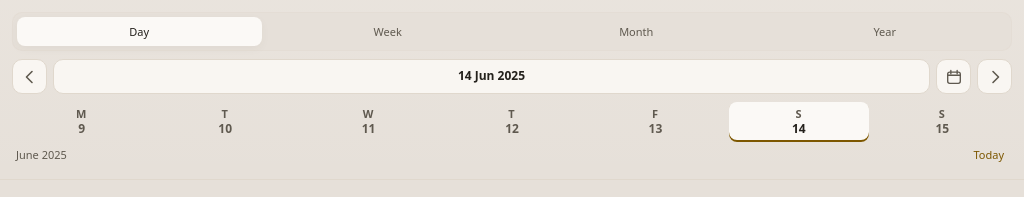
the civil location and the cells › centres the selected broader period between core-returned neighbours
Click the button "Month". click: (636, 32)
box: [514,17,758,46]
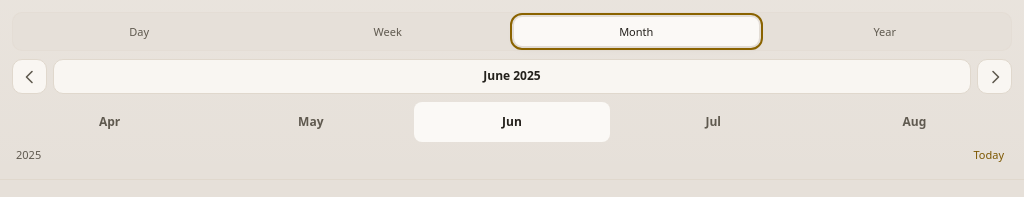
expect the buttons read "Apr", "May", "Jun", "Jul", "Aug", in this order: met, box [12,102,207,142]; [213,102,408,142]; [414,102,610,142]; [616,102,811,142]; [817,102,1012,142]
expect the text "June 2025" is shown: met, box [483,68,541,85]
